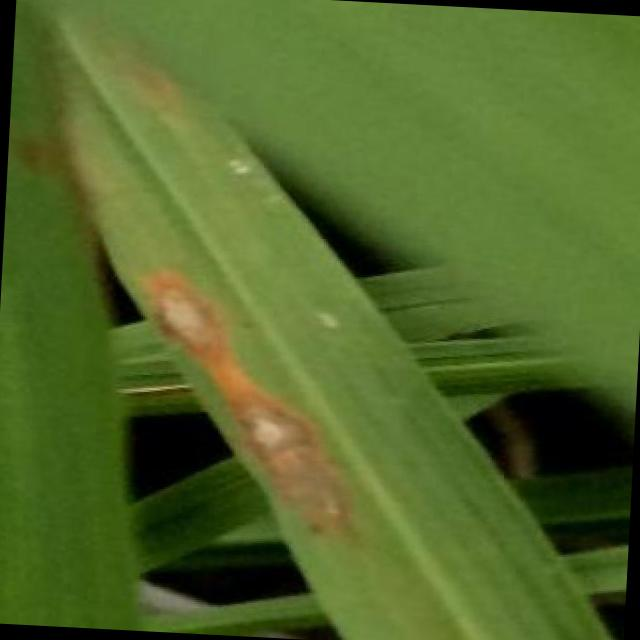Rice_Blast: (194, 369, 381, 536), (128, 238, 237, 360)
